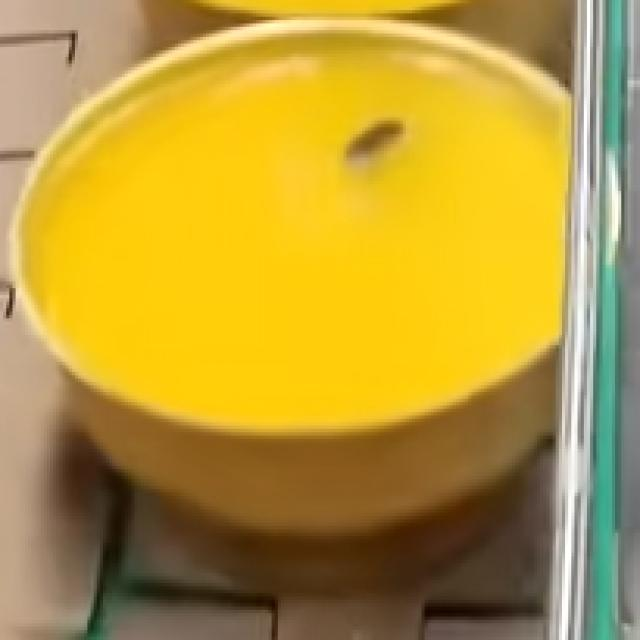cup: (0, 17, 634, 576)
